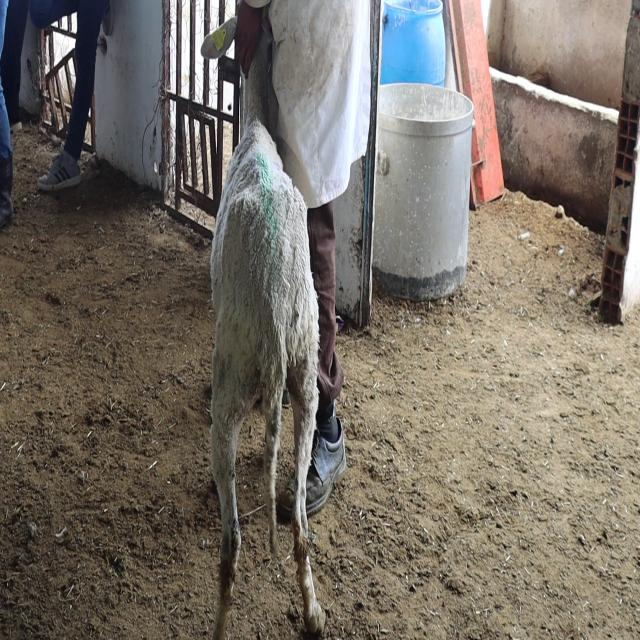Score_1: (210, 12, 325, 639)
